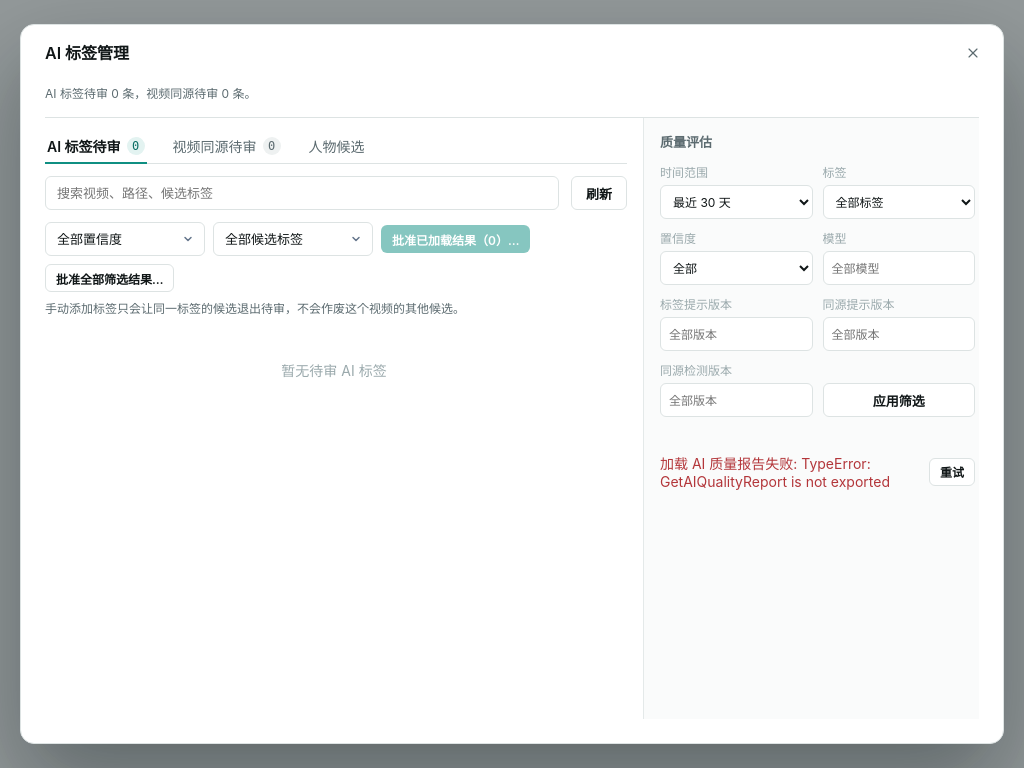
Test: AITagReviewDialog face cluster review section › switches to the face candidate section and hands the panel its own toolbar
Click the tab with test id "face-cluster-review-tab". click: (337, 147)
box: [307,130,367,164]
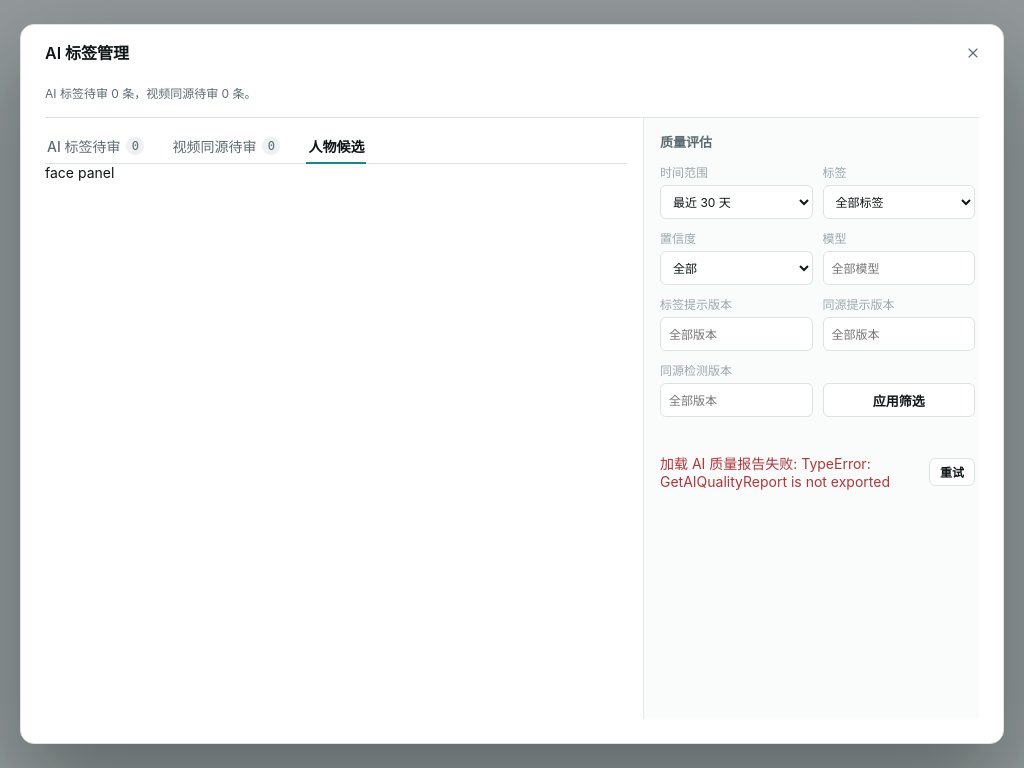
Expected: the text "face panel" is shown, [45,164,114,181]
Note: 切回来标签待审照旧。
Click the tab with test id "ai-candidate-review-tab". click: (96, 147)
box: [45,130,146,164]
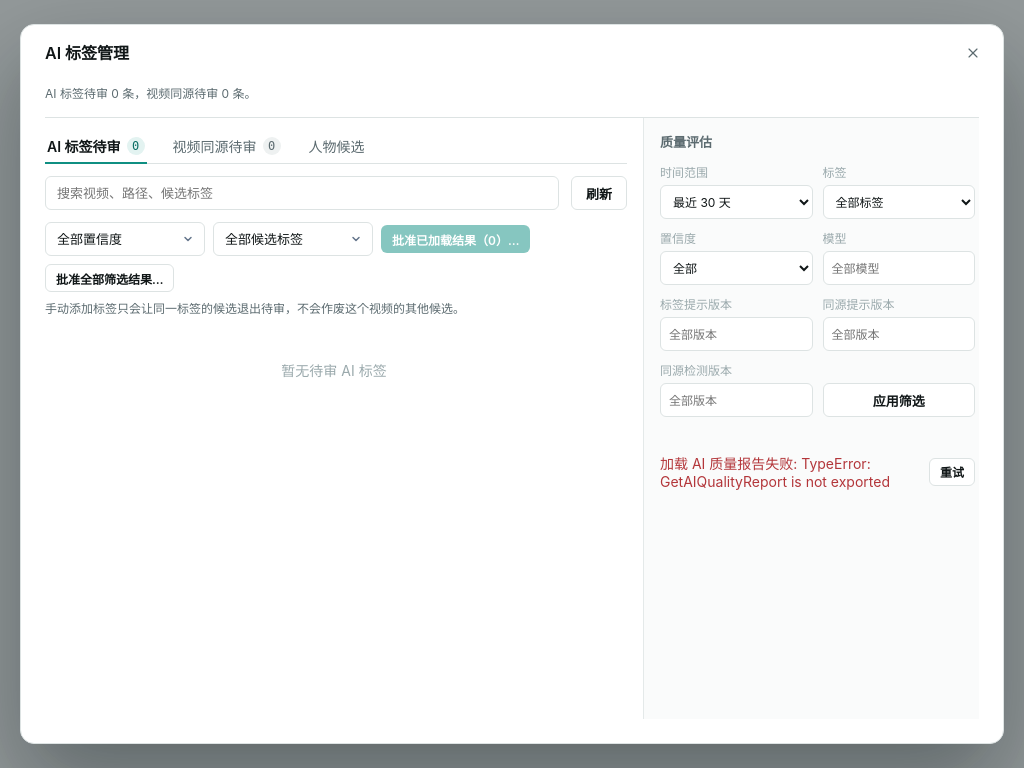
Expected: the element with class "ai-tag-review-actions" is shown, [45,176,627,210]
